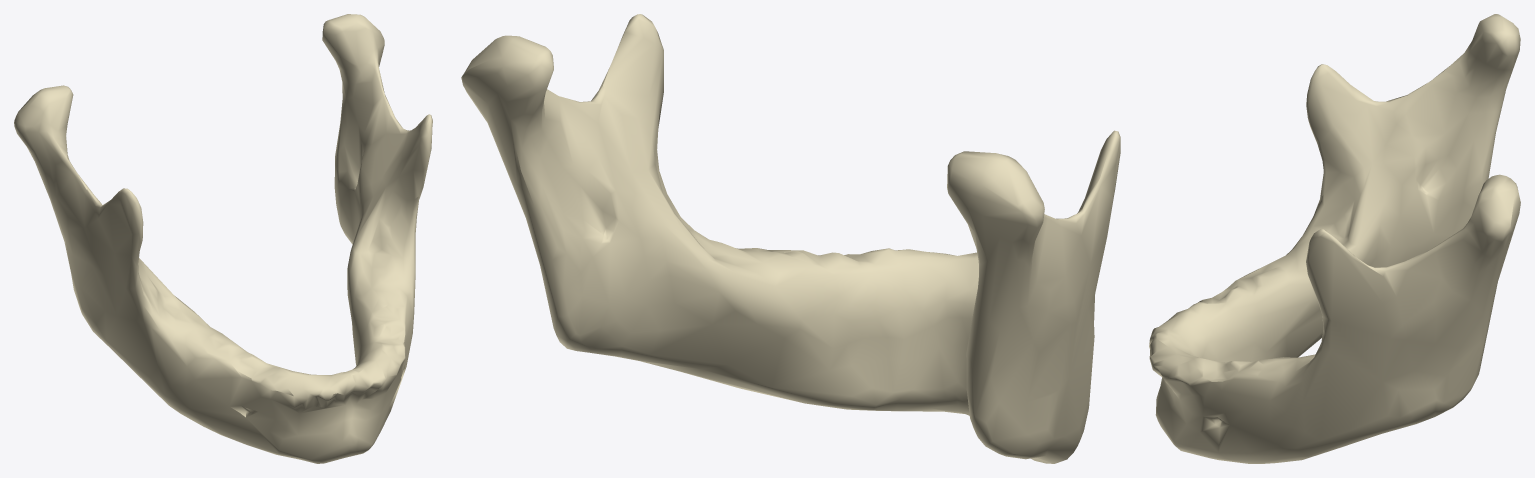
The model's file is mandible.glb.
The picture shows the model from 3 angles, left to right: view 1: azimuth 30°, elevation 25°; view 2: azimuth 150°, elevation 25°; view 3: azimuth 270°, elevation 25°; orthographic projection. The views are drawn at different scales.
Parts seen in each view (by area): view 1: Mandible; view 2: Mandible; view 3: Mandible.
Boxes of the visible parts, <box> form: Mandible: <box>14,14,432,463</box>; Mandible: <box>461,14,1120,463</box>; Mandible: <box>1149,14,1520,463</box>.
Bounding box in the file's own units: 0.1064 × 0.0845 × 0.0839.
